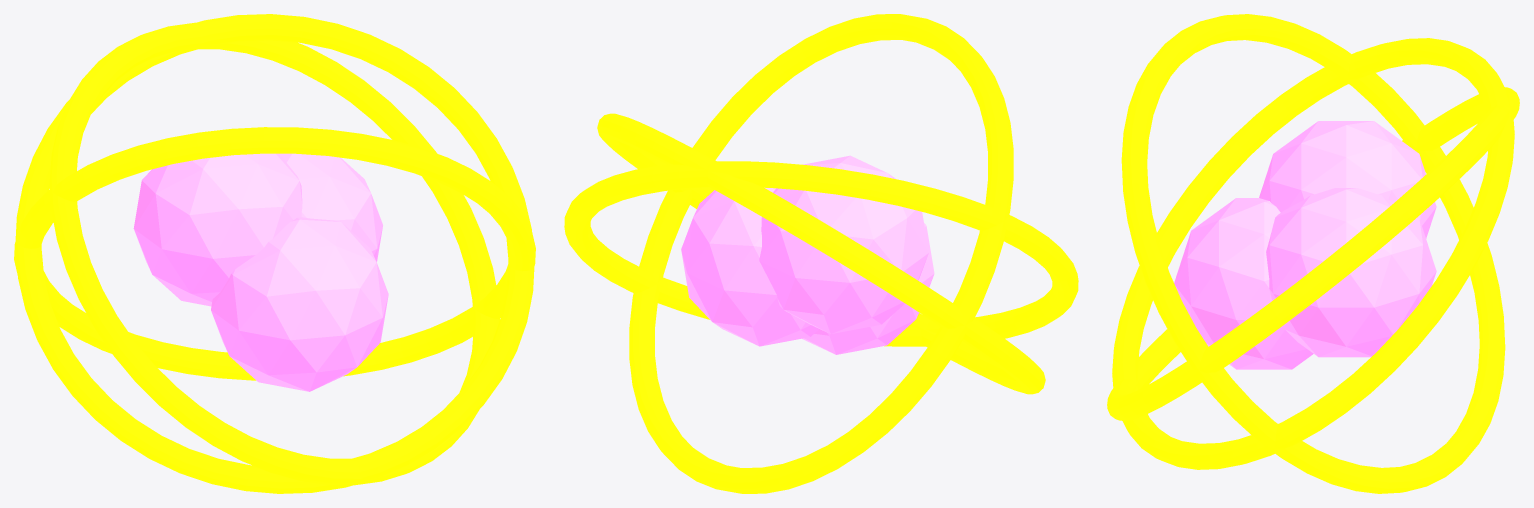
Rendered from anomaly_particle.glb.
The picture shows the model from 3 angles, left to right: view 1: azimuth 30°, elevation 25°; view 2: azimuth 150°, elevation 25°; view 3: azimuth 270°, elevation 25°; orthographic projection.
Visible parts, largest first — view 1: Torus.002, Torus, Torus.001, Icosphere.002, Icosphere.001, Icosphere; view 2: Torus.001, Torus, Icosphere.001, Torus.002, Icosphere, Icosphere.002; view 3: Torus.001, Torus, Icosphere, Torus.002, Icosphere.002, Icosphere.001.
Part boxes in pixels (x1,y1,x2,y2): Torus.002: (15, 14, 534, 493); Torus: (49, 22, 499, 485); Torus.001: (14, 127, 535, 380); Icosphere.002: (211, 217, 388, 391); Icosphere.001: (133, 153, 302, 306); Icosphere: (279, 153, 382, 262); Torus.001: (629, 14, 1013, 493); Torus: (564, 161, 1078, 346); Icosphere.001: (759, 155, 928, 333); Torus.002: (597, 113, 1045, 394); Icosphere: (681, 187, 818, 346); Icosphere.002: (802, 223, 934, 354); Torus.001: (1121, 14, 1505, 493); Torus: (1112, 38, 1514, 469); Icosphere: (1266, 188, 1436, 357); Torus.002: (1107, 87, 1519, 421); Icosphere.002: (1174, 198, 1313, 369); Icosphere.001: (1259, 121, 1436, 238).
Bounding box in the file's own units: 3.07 × 2.53 × 2.51.
